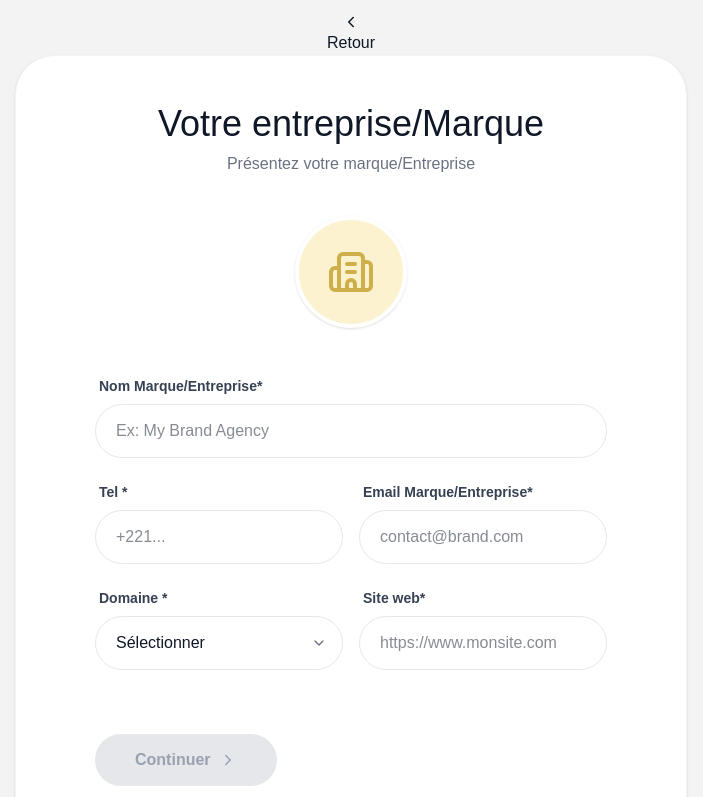
Test: EntrepriseDetails Page › enables continue button when form is valid
The image size is (703, 797).
Step 1. Type "Test Co" into the field with placeholder "Ex: My Brand Agency" → [351, 431], box [95,404,607,458]
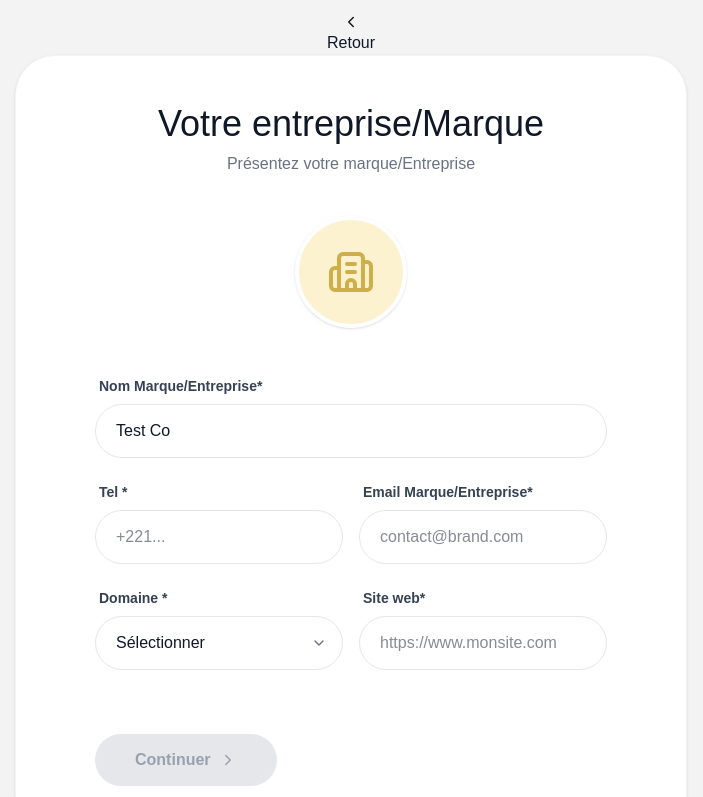
Step 2. Type "+221000000000" into the field with placeholder "+221..." → [219, 537], box [95,510,343,564]
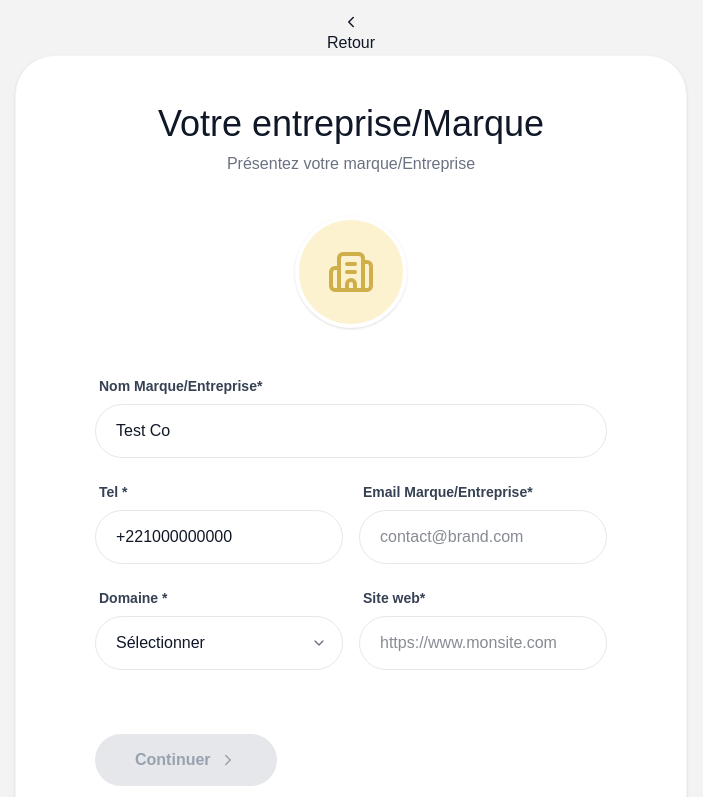
Step 3. Type "test@brand.com" into the field with placeholder "contact@brand.com" → [483, 537], box [359,510,607,564]
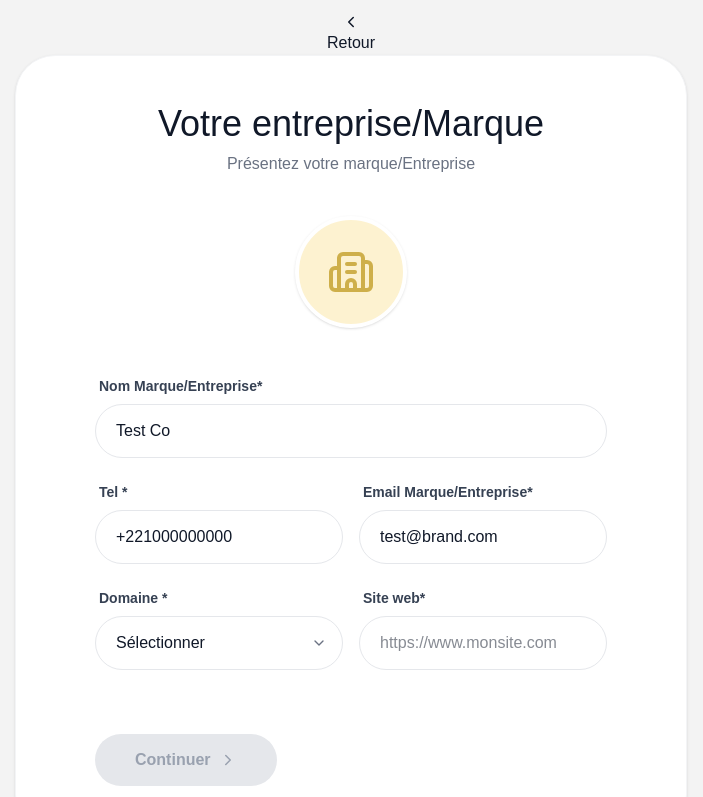
Step 4. Select "Mode & Beauté" in the dropdown → [219, 643], box [95,616,343,670]
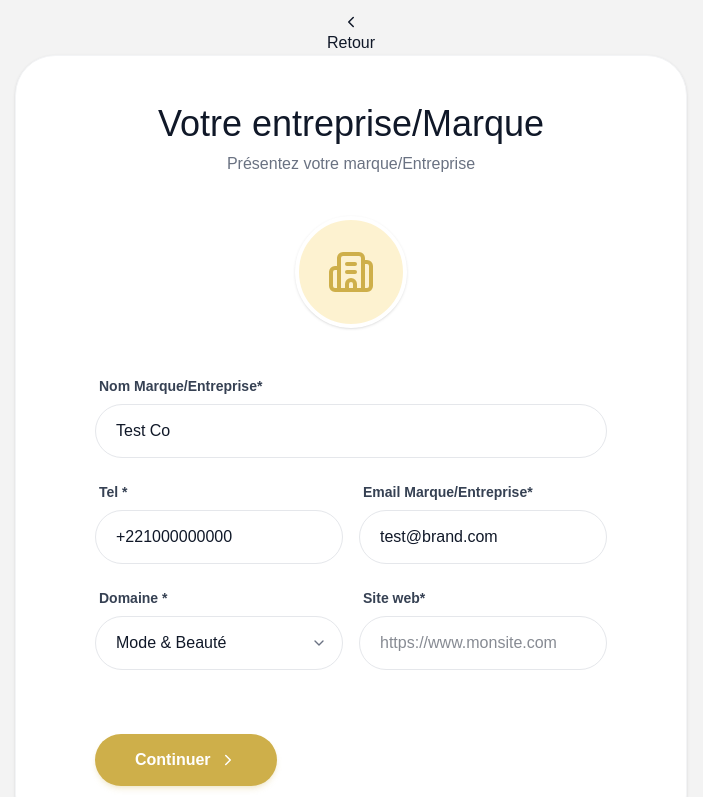
Check: the button "Continuer" is enabled, box [95,734,276,786]
